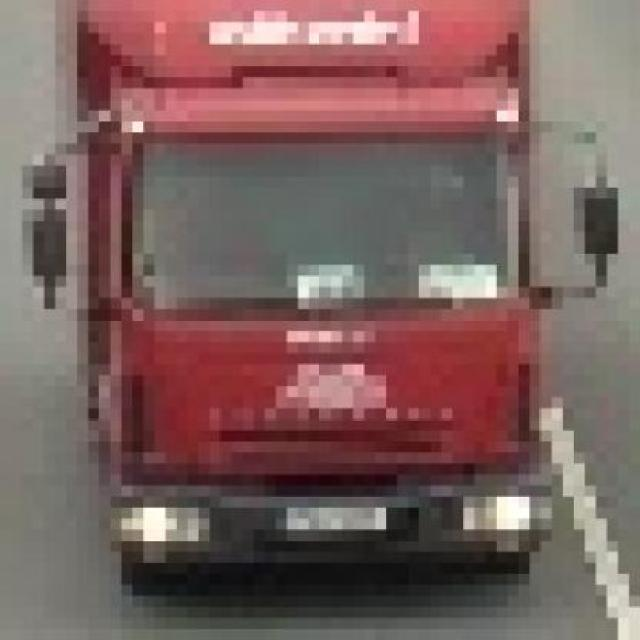truck: (46, 1, 640, 585)
